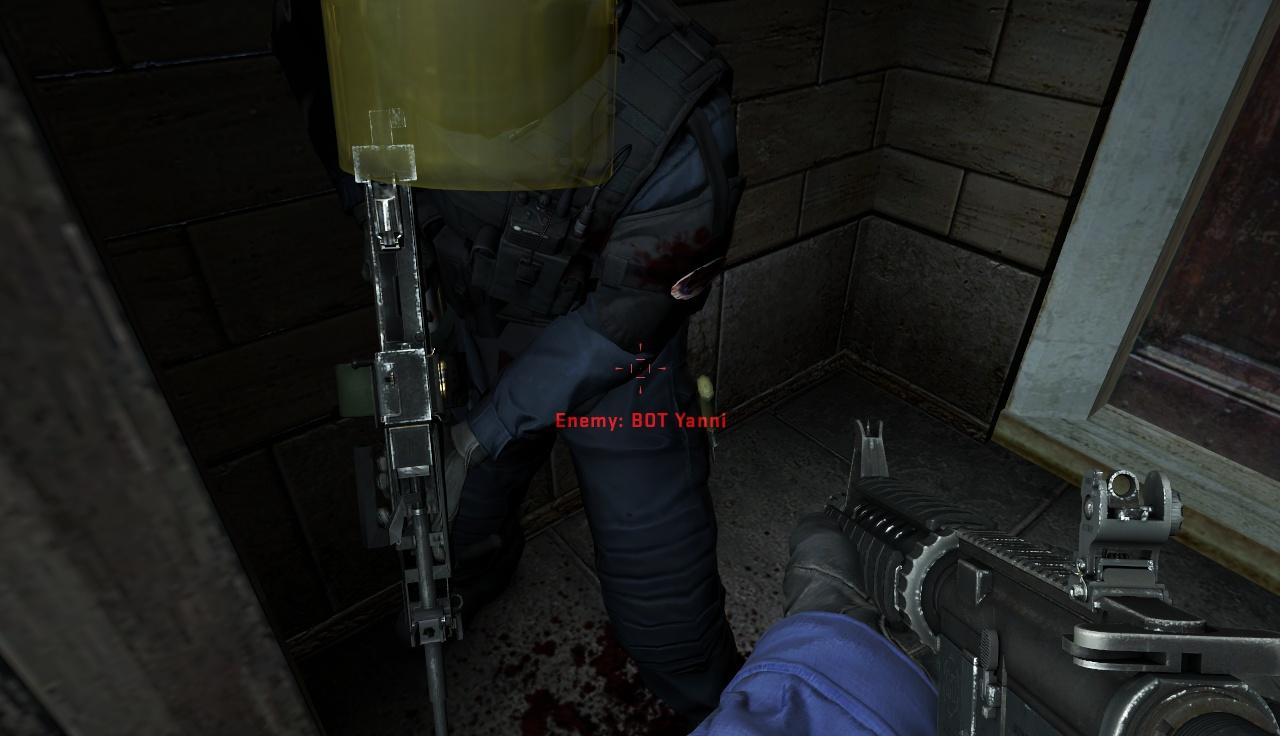ct: (324, 0, 740, 662)
cthead: (324, 1, 632, 192)
rifle: (801, 416, 1280, 736)
